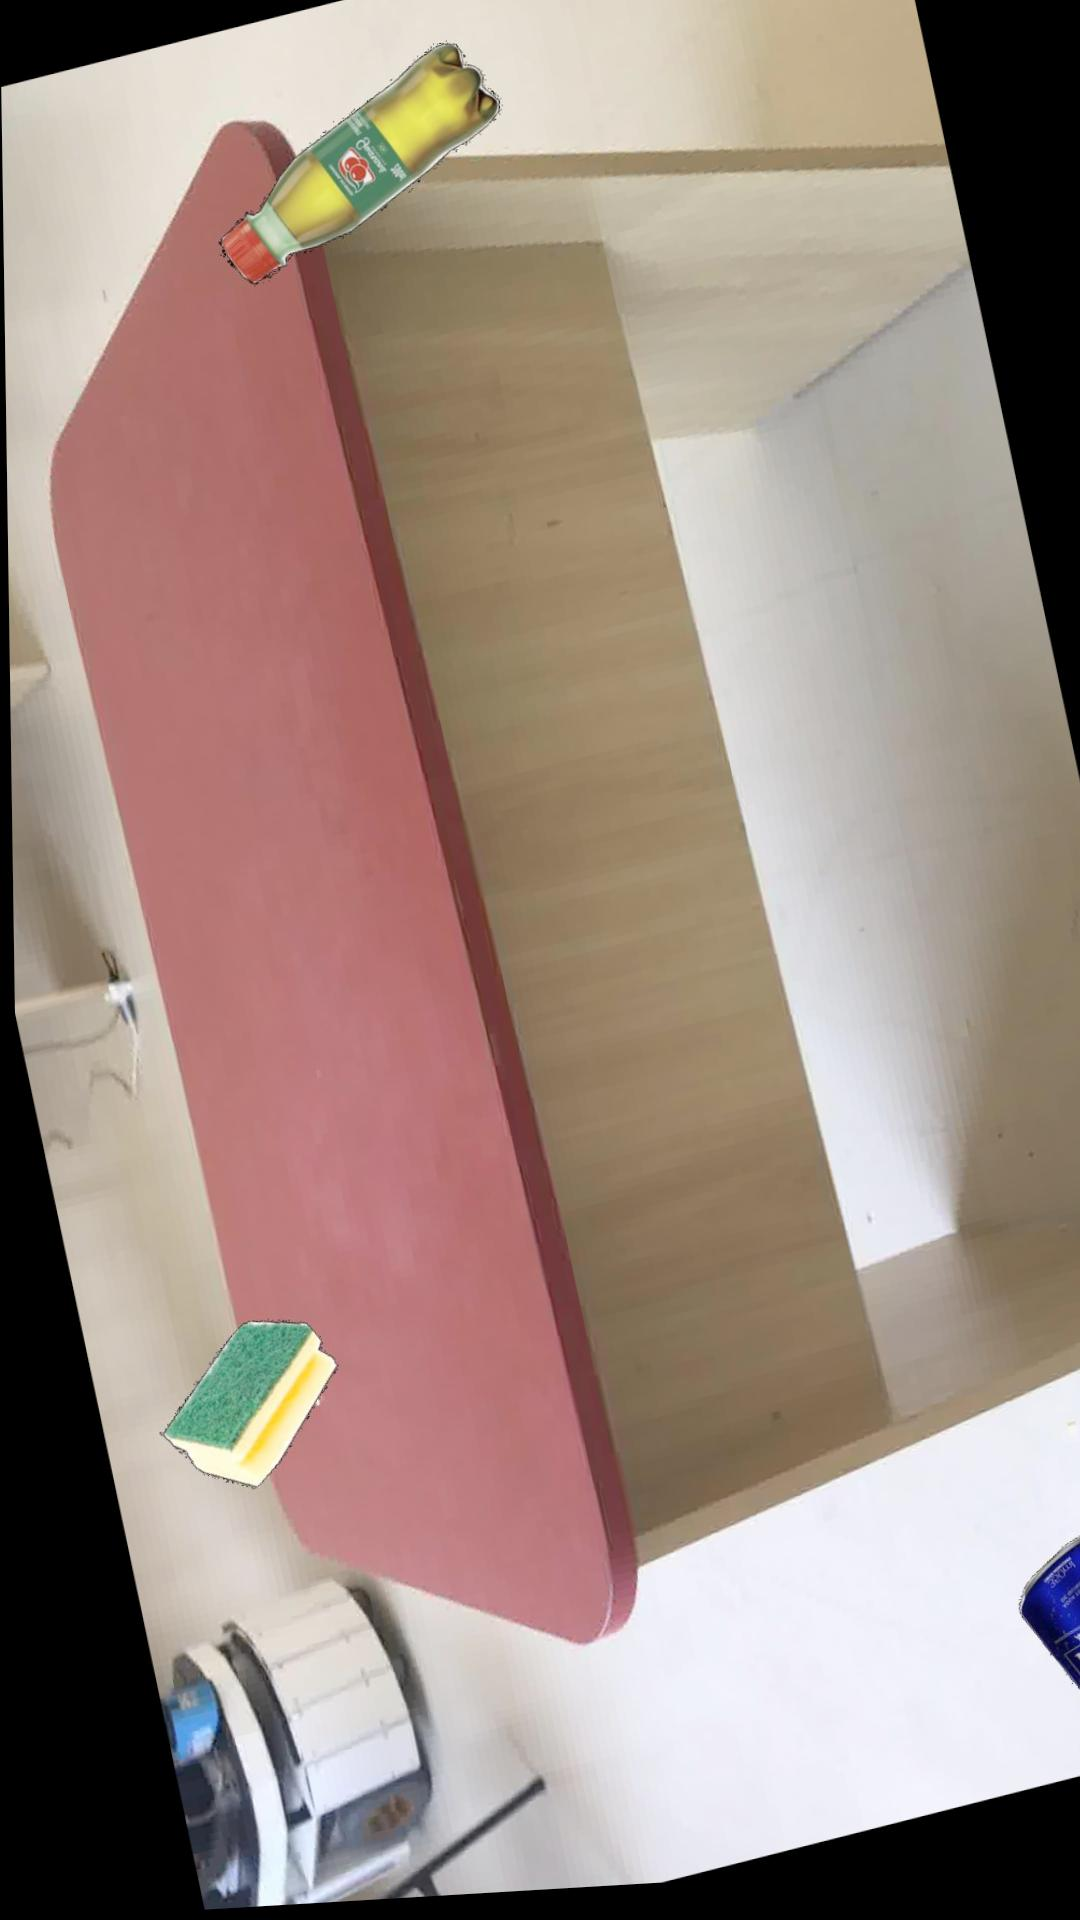guarana: (219, 50, 501, 289)
sponge: (160, 1324, 336, 1491)
tonic: (1015, 1548, 1080, 1708)
